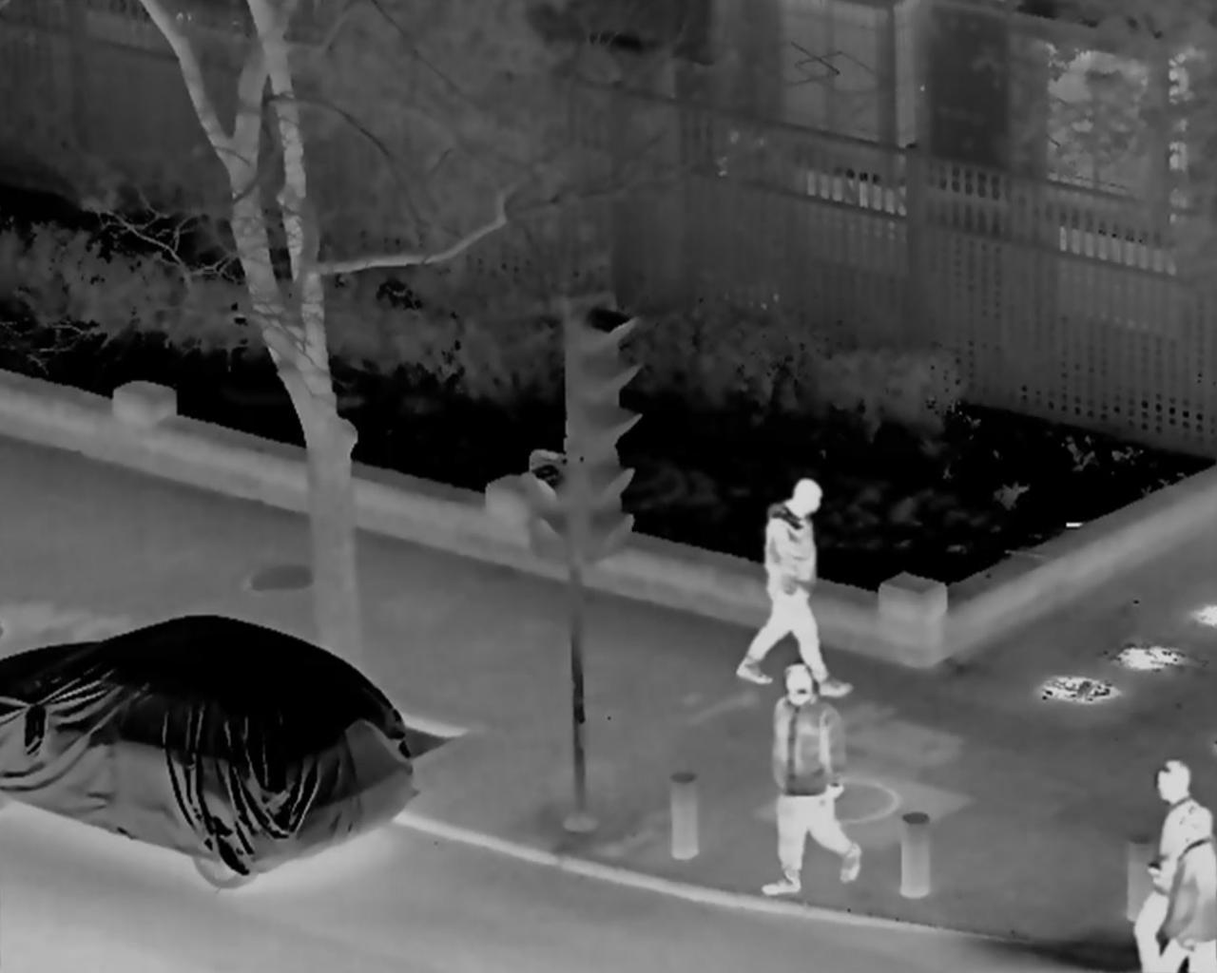person: (731, 479, 857, 702), (758, 666, 865, 901), (1123, 762, 1193, 970), (1168, 809, 1212, 973)
